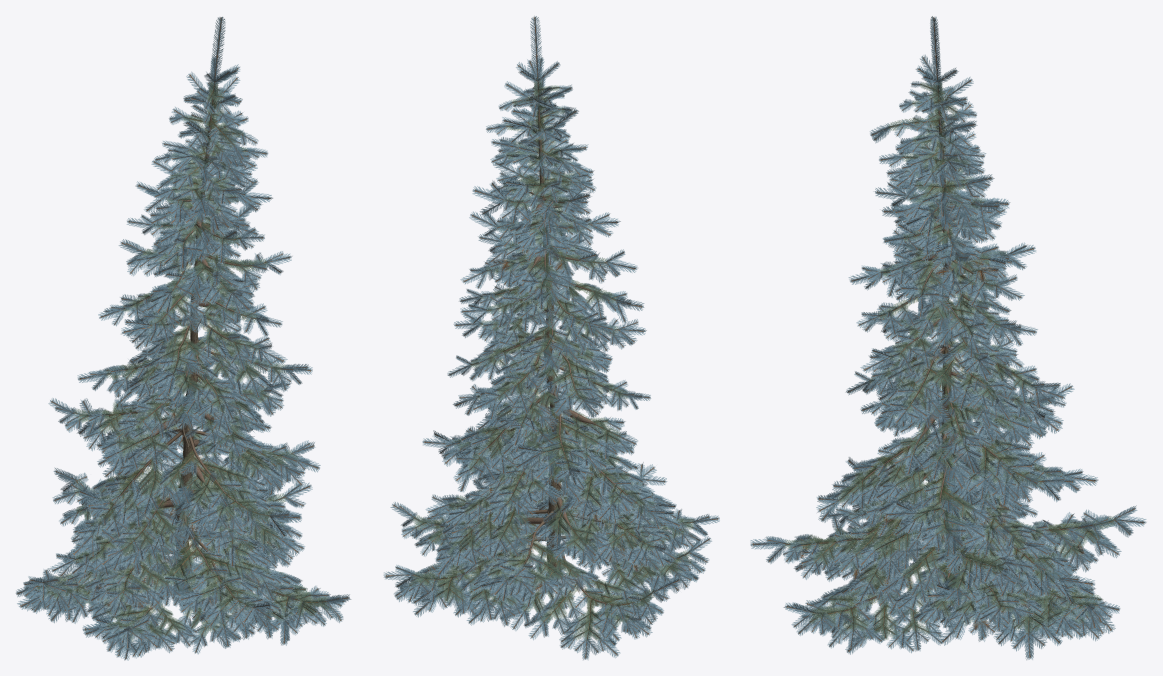
File: tree_bluespruce.glb
3 renders of one model, left to right at view 1: azimuth 30°, elevation 25°; view 2: azimuth 150°, elevation 25°; view 3: azimuth 270°, elevation 25°, orthographic. The views are drawn at different scales.
Size of the model in its own units: 4.67 by 9 by 5.23.
Materials: 6 (6 with a texture image).
